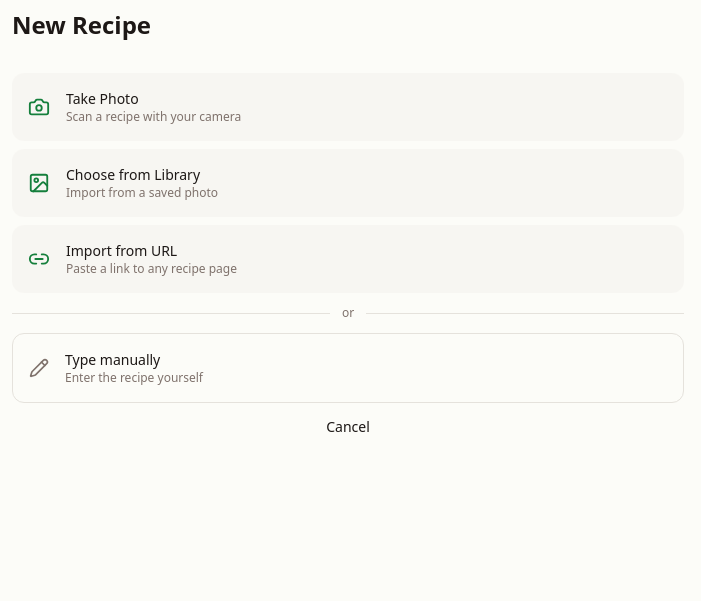
RecipeForm — new recipe › disables ✕ button when only one ingredient row remains
Click the text "Type manually". click: [113, 360]
box: [65,350,160,369]
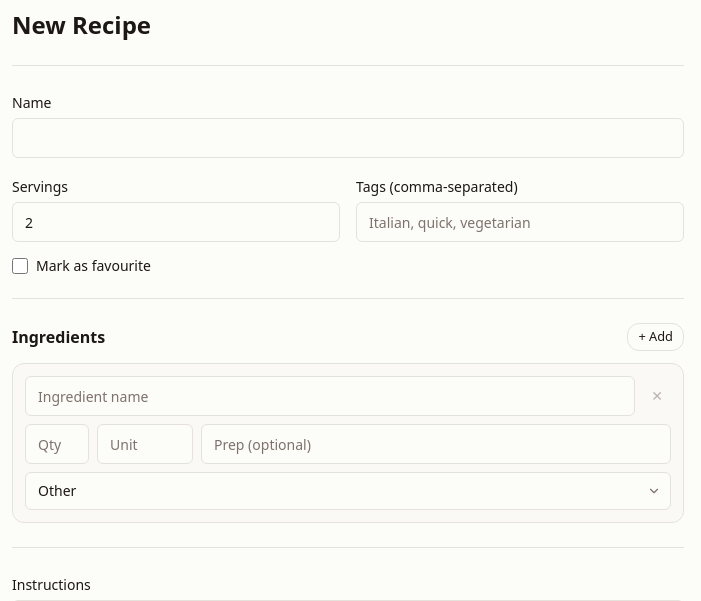
Check: the button "✕" is disabled, box [643,382,671,410]
